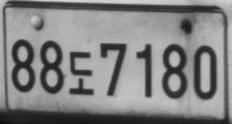0: (192, 44, 218, 100)
1: (132, 43, 160, 98)
7: (99, 42, 127, 96)
8: (161, 43, 189, 99), (39, 39, 65, 95), (10, 37, 36, 92)
도: (68, 50, 94, 95)
